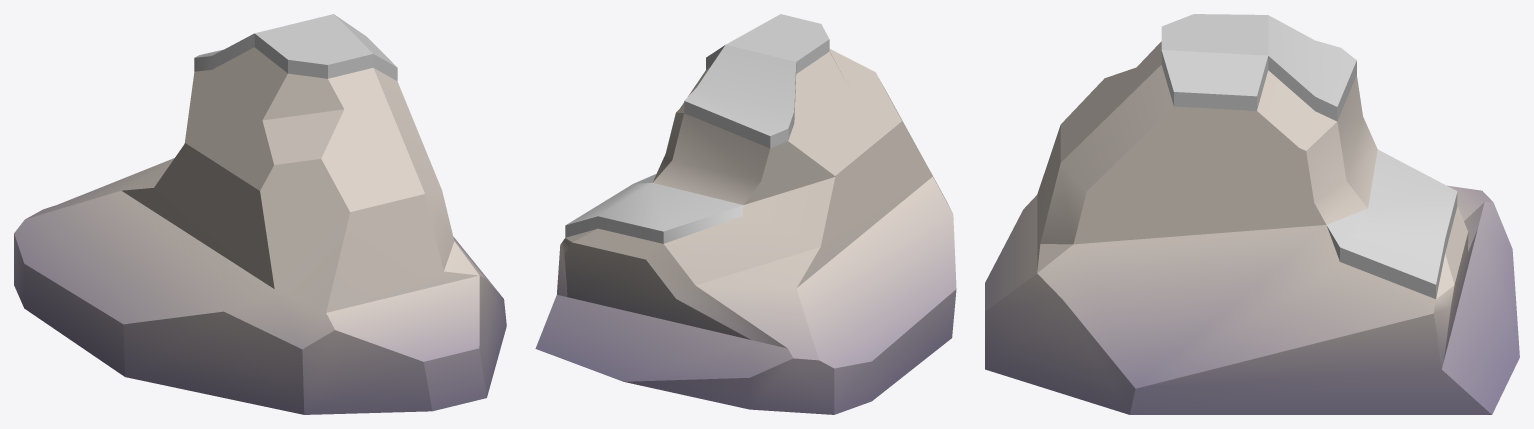
Rendered from rock3.fbx.
3 renders of one model, left to right at view 1: azimuth 30°, elevation 25°; view 2: azimuth 150°, elevation 25°; view 3: azimuth 270°, elevation 25°, orthographic. The views are drawn at different scales.
Visible parts, largest first — view 1: Rock3; view 2: Rock3; view 3: Rock3.
Boxes of the visible parts, x1,y1,x2,y2 form: Rock3: [14, 14, 506, 414]; Rock3: [535, 14, 956, 414]; Rock3: [985, 14, 1519, 414].
Bounding box in the file's own units: 300 × 242 × 385.
